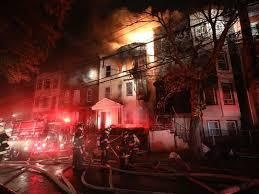fire: (114, 23, 158, 61)
